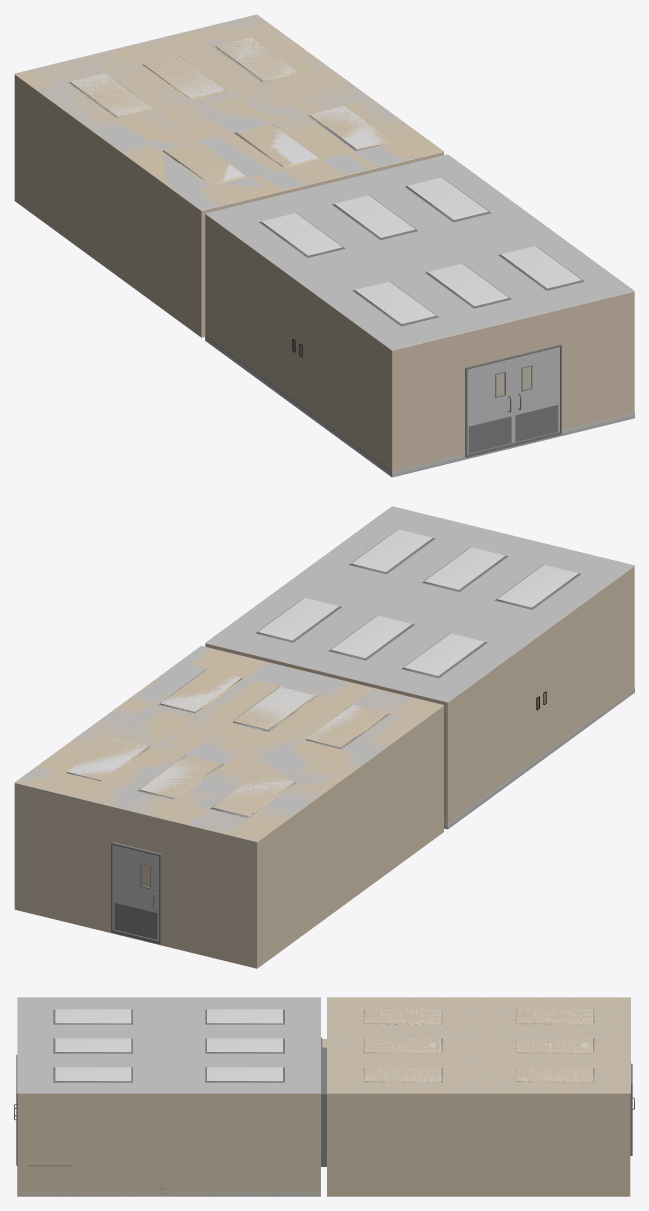
The model's file is O_room.fbx.
3 views of the same model, one above another, from view 1: azimuth 30°, elevation 25°; view 2: azimuth 150°, elevation 25°; view 3: azimuth 270°, elevation 25° (orthographic). The views are drawn at different scales.
Parts seen in each view (by area): view 1: Base_OR_room3, ceiling_lights18, ceiling_lights19, ceiling_lights20, pCube8, pCube5, or_floor, pCube11, pCube10, pCube4; view 2: Base_OR_room3, ceiling_lights18, ceiling_lights19, ceiling_lights20, pCube6, pCube9, or_floor, pCube7; view 3: Base_OR_room3, ceiling_lights18, ceiling_lights19, ceiling_lights20, or_floor, pCube12.
Boxes of the visible parts, box(x1,y1,x2,y2) form: Base_OR_room3: box(14, 74, 634, 475); ceiling_lights18: box(205, 154, 634, 350); ceiling_lights19: box(15, 15, 443, 210); ceiling_lights20: box(14, 14, 427, 209); pCube8: box(467, 358, 513, 453); pCube5: box(513, 347, 559, 442); or_floor: box(205, 335, 634, 477); pCube11: box(468, 416, 511, 453); pCube10: box(515, 405, 558, 441); pCube4: box(465, 344, 561, 457); Base_OR_room3: box(14, 566, 634, 968); ceiling_lights18: box(205, 506, 634, 702); ceiling_lights19: box(15, 646, 443, 841); ceiling_lights20: box(14, 646, 442, 841); pCube6: box(113, 845, 158, 940); pCube9: box(114, 903, 157, 939); or_floor: box(444, 687, 634, 829); pCube7: box(111, 841, 161, 944); Base_OR_room3: box(17, 1039, 630, 1196); ceiling_lights18: box(17, 997, 320, 1093); ceiling_lights19: box(327, 997, 630, 1093); ceiling_lights20: box(327, 997, 630, 1093); or_floor: box(17, 1192, 320, 1196); pCube12: box(321, 1047, 326, 1166).
Size of the model in its own units: 6.06 by 3.05 by 16.37.
